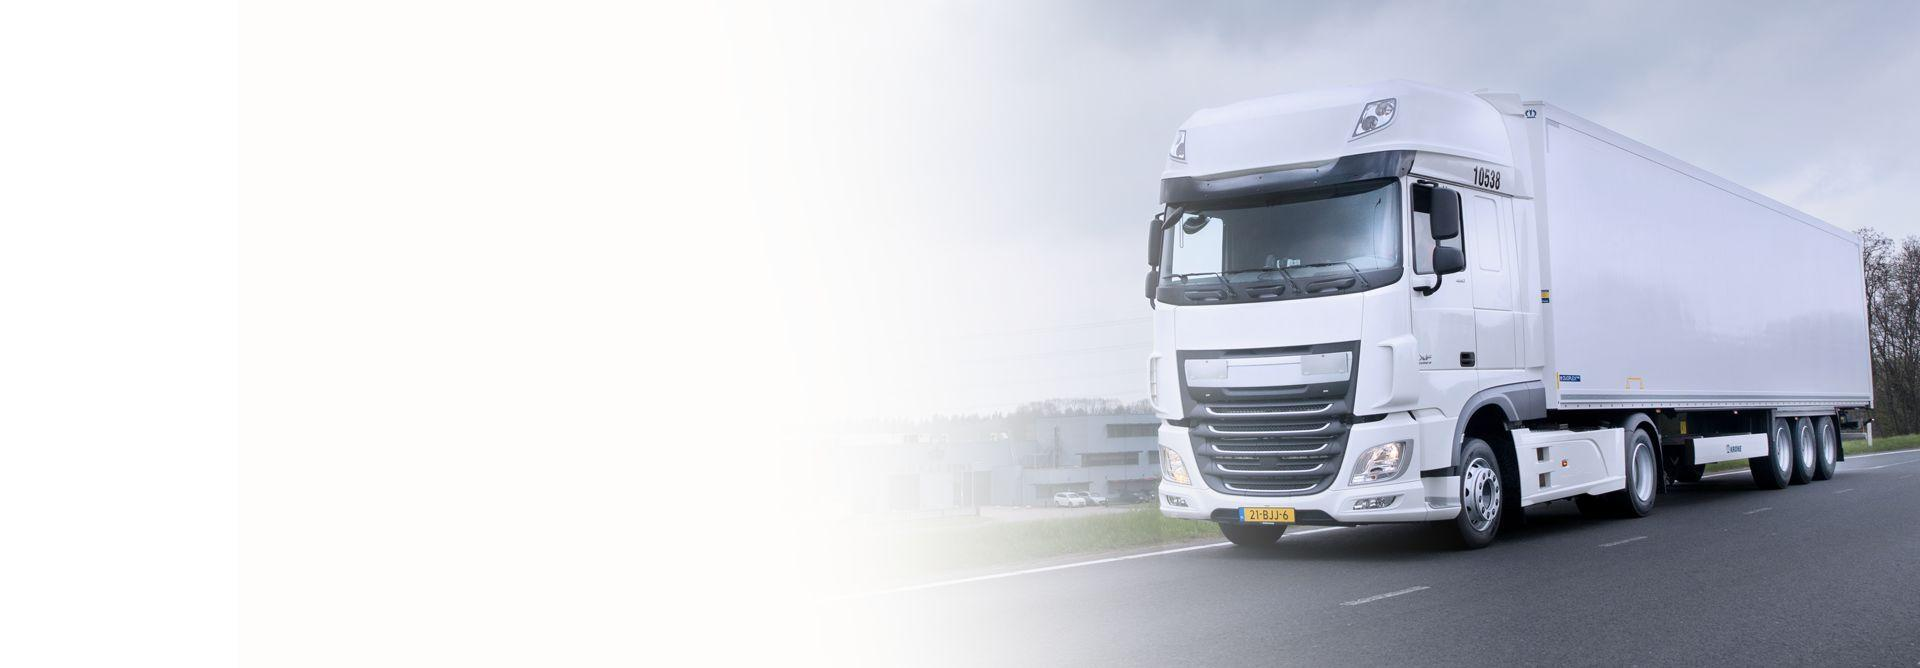truck: (1141, 87, 1877, 554)
